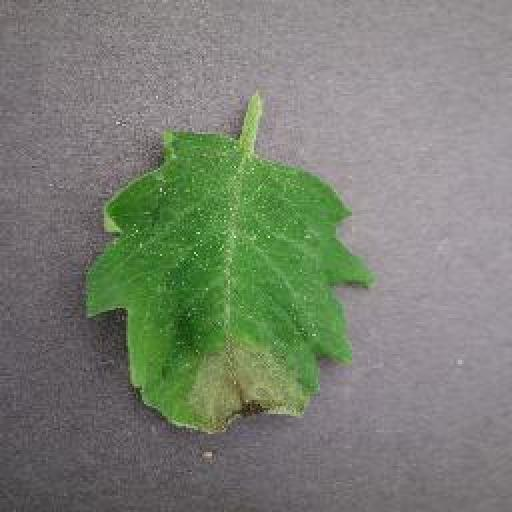Late Blight: (81, 128, 371, 443)
